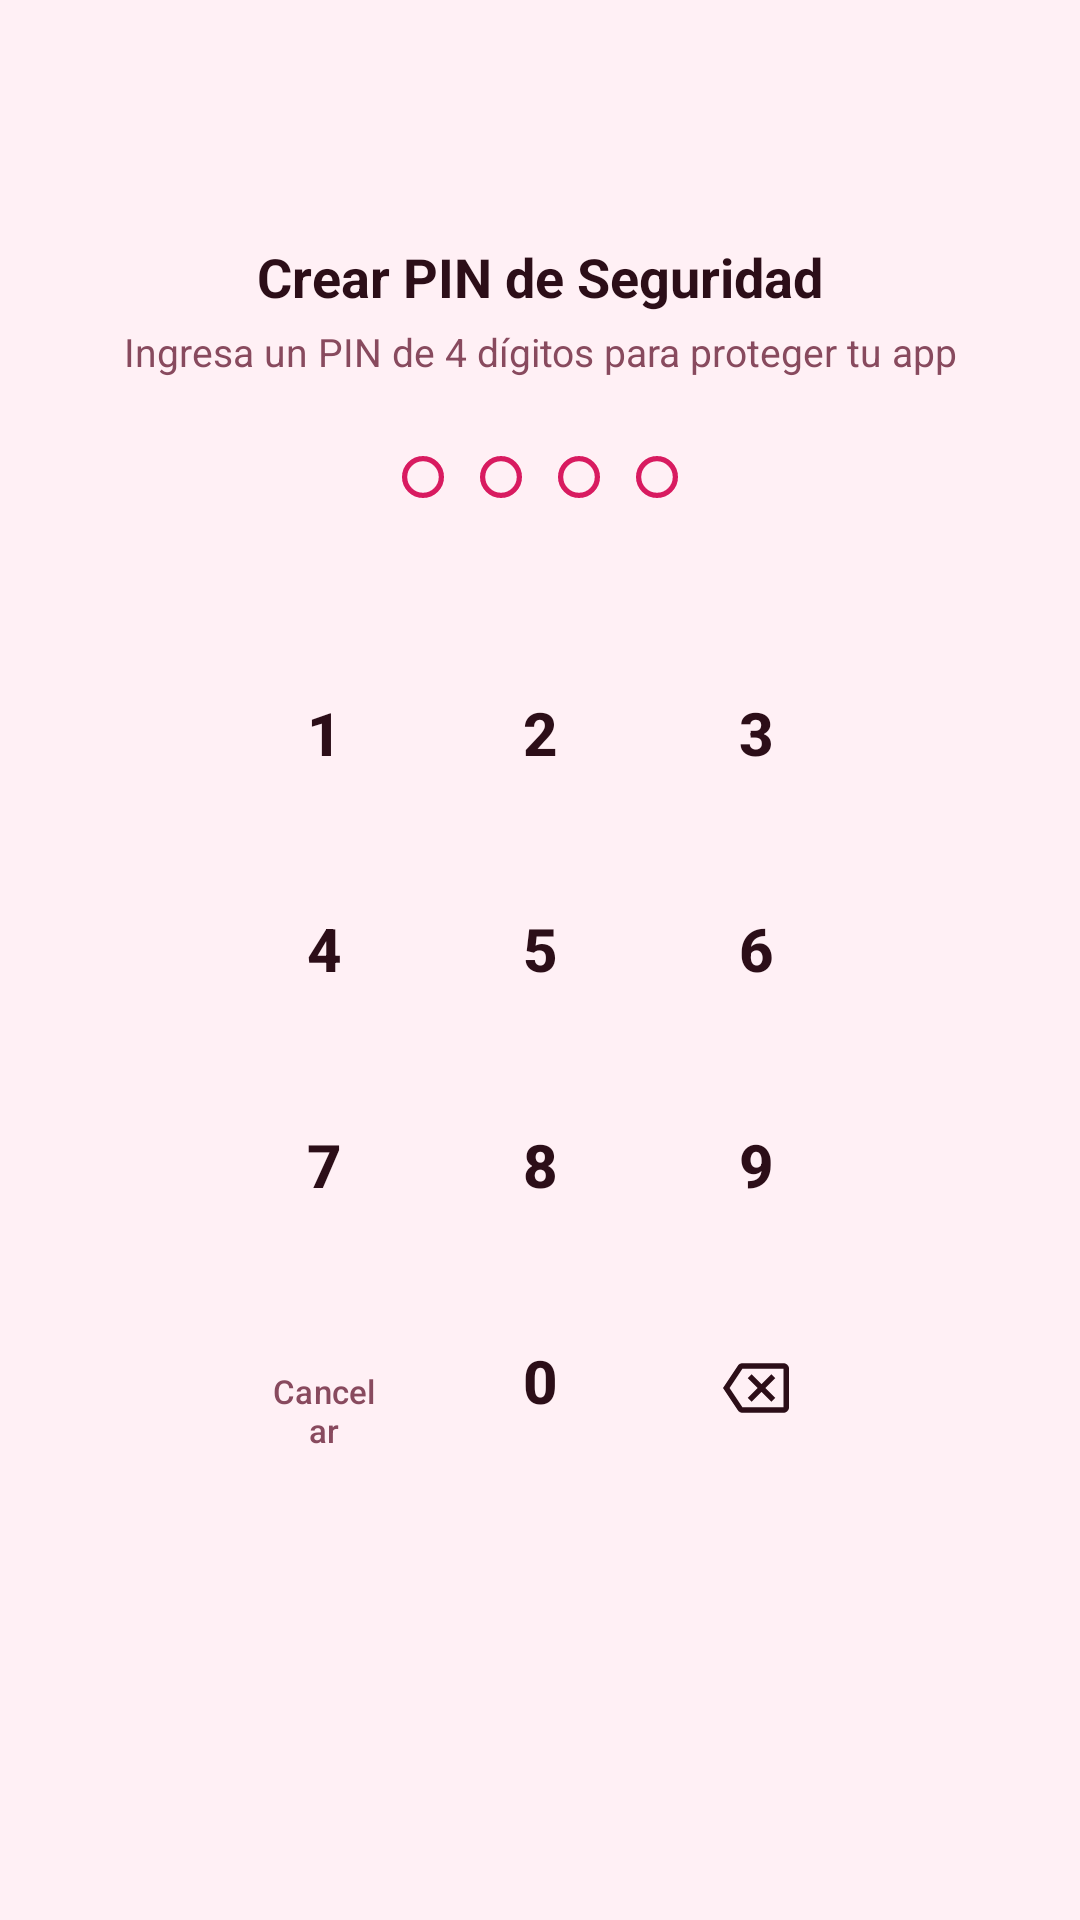

Icons on this 1080 x 1920 Android screen, each with the point to tap as (x=x, y=y):
backspace: (x=756, y=1388)
